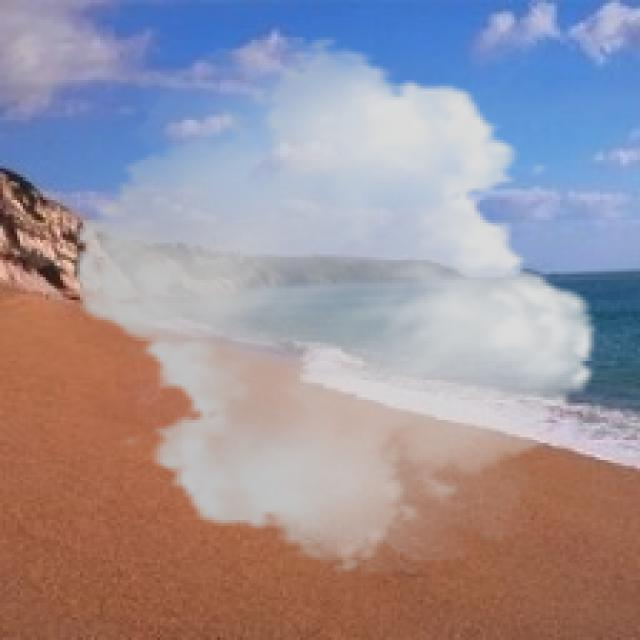Smoke: (52, 37, 618, 574)
